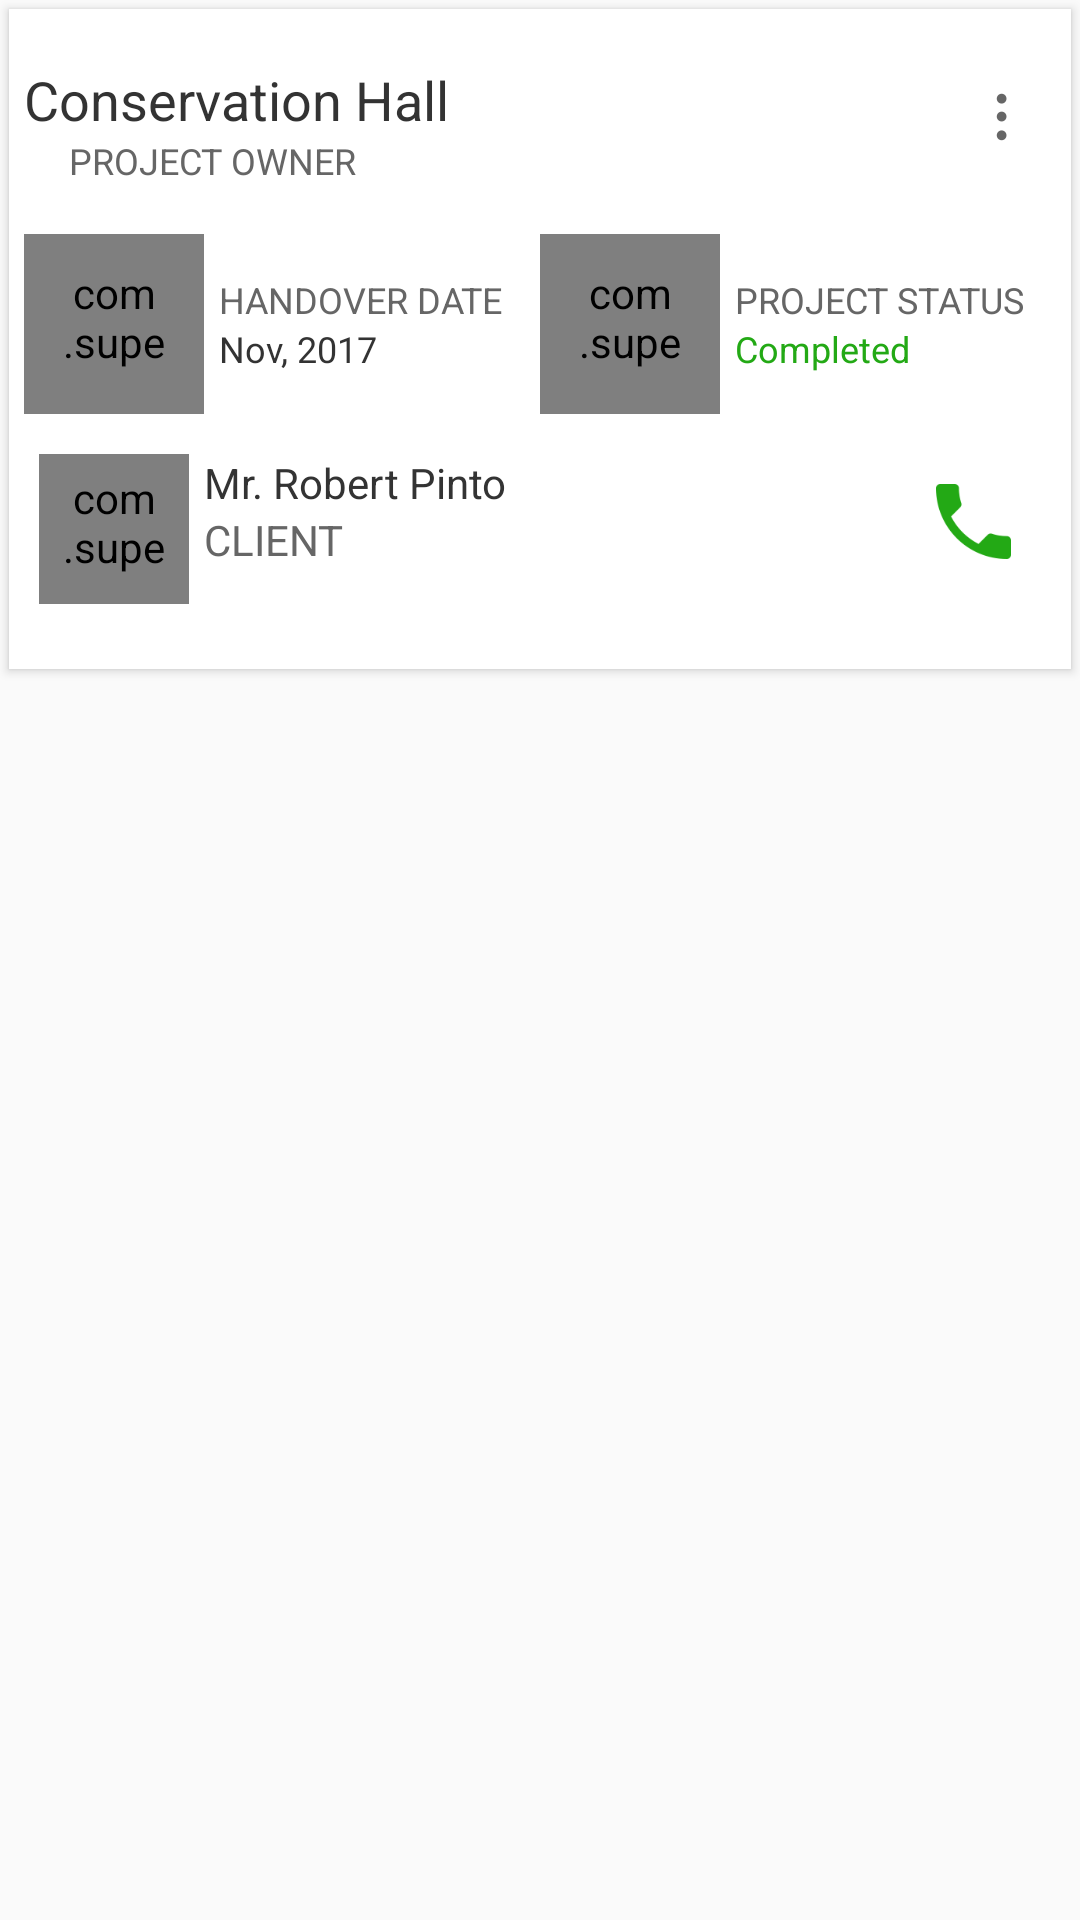

Where icons sit on this 1080w x 1920h app screen, as (x1, y1, x2, y2):
call: (936, 484, 1011, 559)
contextualmenu card: (996, 93, 1007, 141)
